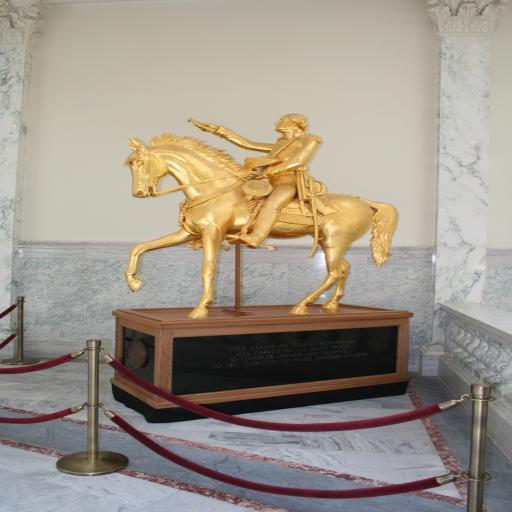horse: (124, 130, 400, 322)
